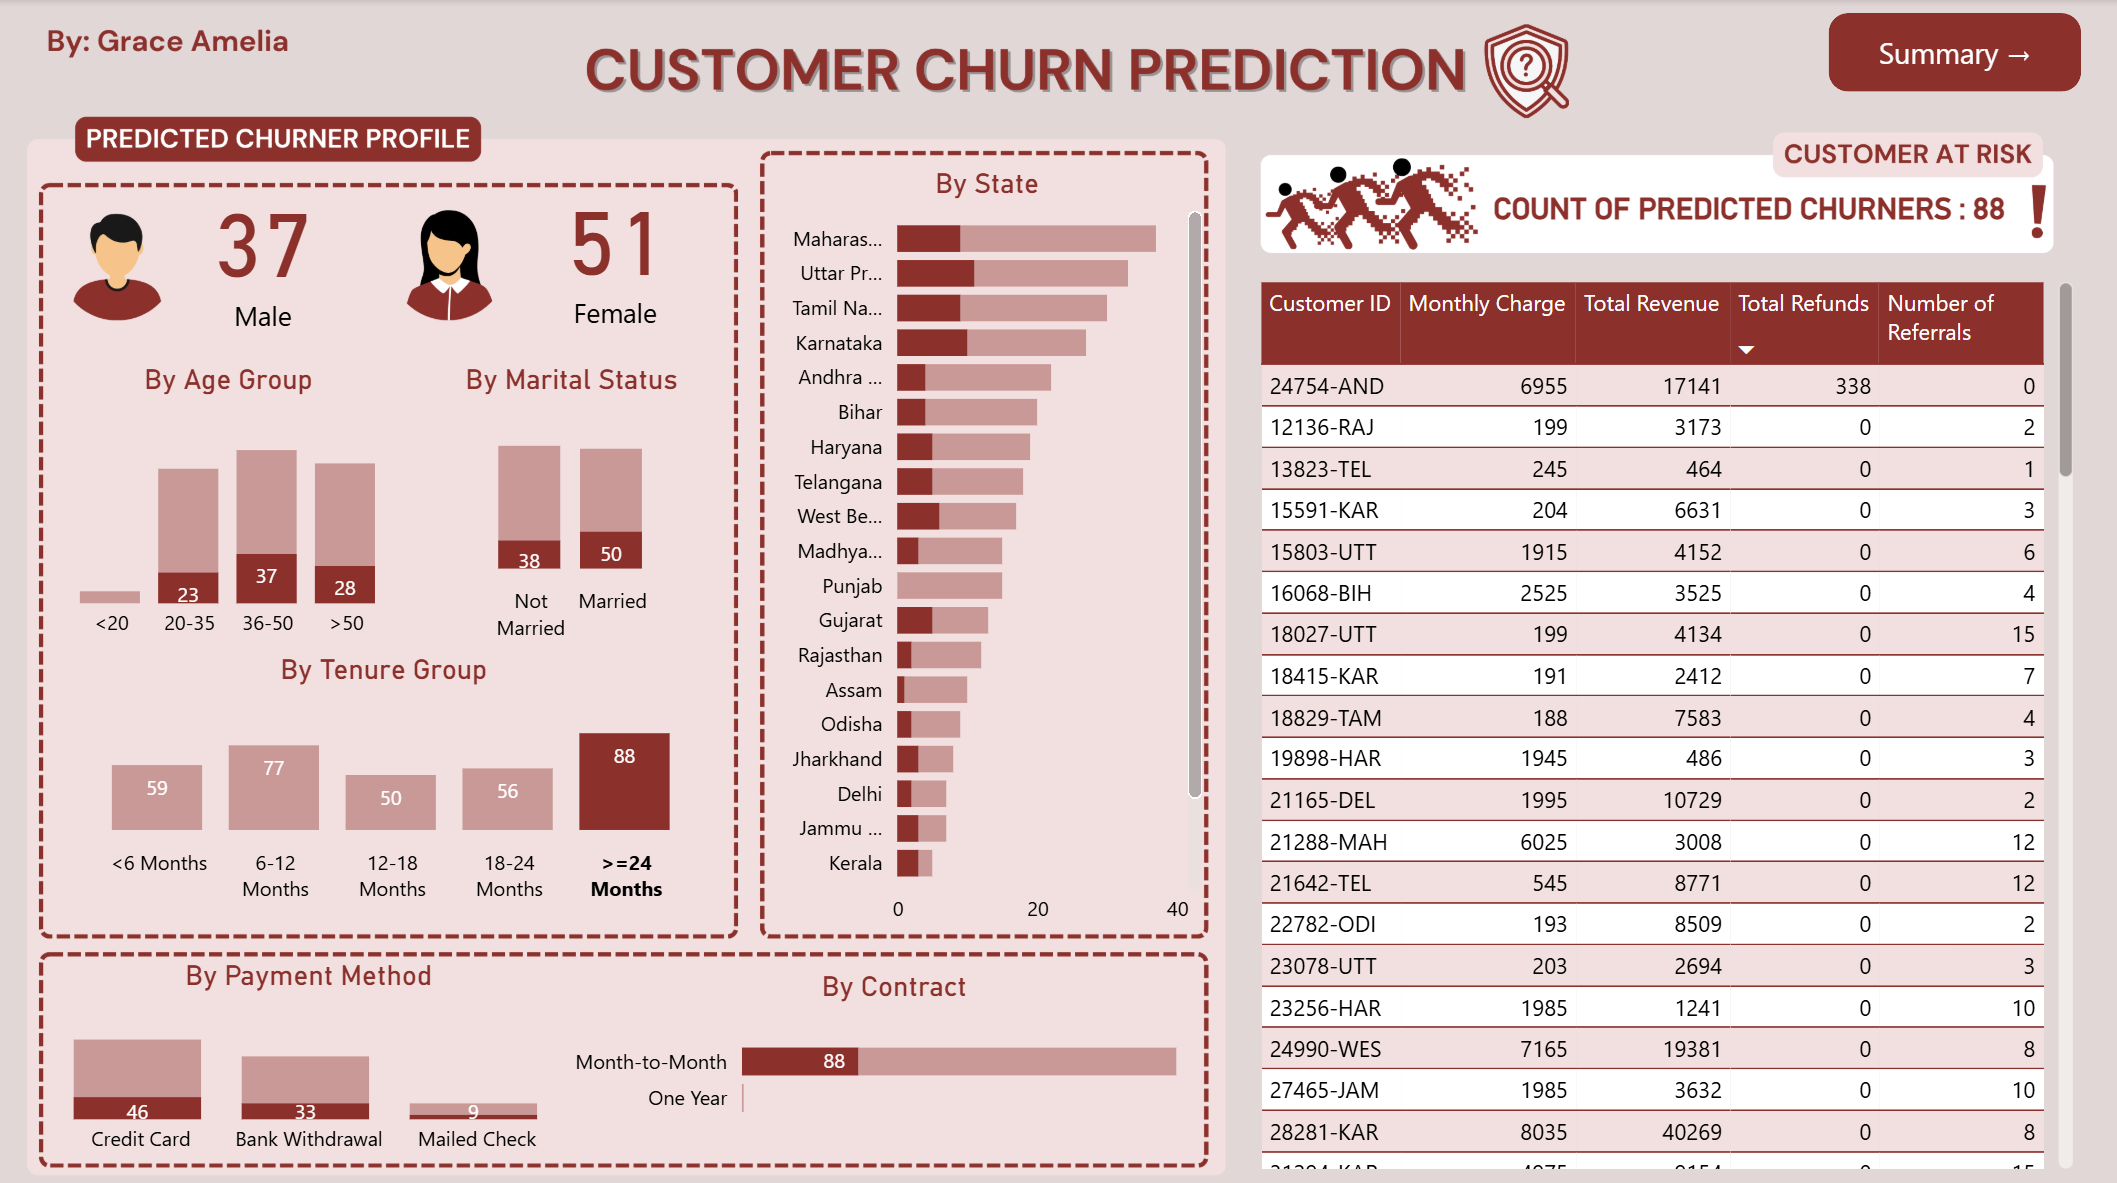

What the dashboard file says about the page in this screenshot:
{"tool":"powerbi","page":{"name":"Churn_Prediction","canvas":[1280,720],"ordinal":2},"visuals":[{"type":"tableEx","fields":{"Values":["Churned_Only_Prediction.Customer_ID","Churned_Only_Prediction.Monthly_Charge","Churned_Only_Prediction.Total_Revenue","Churned_Only_Prediction.Total_Refunds","Churned_Only_Prediction.Number_of_Referrals"]},"box":[756.2,166.2,501.2,545],"z":0},{"type":"card","fields":{"Values":["Table_Measures.Title_Predicted_Churners"]},"box":[888.8,101.2,335,50],"z":1000},{"type":"card","fields":{"Values":["Table_Measures.Count_Predicted_Churner"]},"box":[303.8,100,136.2,101.2],"z":2000},{"type":"card","fields":{"Values":["Table_Measures.Count_Predicted_Churner"]},"box":[97.5,98.8,125,106.2],"z":3000},{"type":"clusteredColumnChart","title":"By Age Group","fields":{"Category":["Age.Age_Group"],"Y":["CountNonNull(Churned_Only_Prediction.Customer_ID)"]},"box":[25,220,227.5,175],"z":4000},{"type":"clusteredColumnChart","title":"By Marital Status","fields":{"Y":["CountNonNull(Churned_Only_Prediction.Customer_ID)"],"Category":["Churned_Only_Prediction.Marital_Status"]},"box":[252.5,220,187.5,175],"z":5000},{"type":"clusteredColumnChart","title":"By Tenure Group","fields":{"Y":["CountNonNull(Churned_Only_Prediction.Customer_ID)"],"Category":["Tenure.Tenure_Group"]},"box":[25,395,415,157.5],"z":6000},{"type":"clusteredColumnChart","title":"By Payment Method","fields":{"Y":["CountNonNull(Churned_Only_Prediction.Customer_ID)"],"Category":["Churned_Only_Prediction.Payment_Method"]},"box":[0,580,375,126.2],"z":7000},{"type":"clusteredBarChart","title":"By Contract","fields":{"Category":["Churned_Only_Prediction.Contract"],"Y":["CountNonNull(Churned_Only_Prediction.Customer_ID)"]},"box":[336.2,586.2,410,111.2],"z":8000},{"type":"clusteredBarChart","title":"By State","fields":{"Y":["CountNonNull(Churned_Only_Prediction.Customer_ID)"],"Category":["Churned_Only_Prediction.State"]},"box":[462.5,101.2,268.8,466.2],"z":9000},{"type":"shape","box":[1105,8.8,152.5,47.5],"z":9002}]}

Visuals, with their boxes in screenshot pixels (x1, y1, x2, y2), scaled from the page's 1280x720 canvas onto the 2117x1183 screenshot:
tableEx - Churned_Only_Prediction.Customer_ID x Churned_Only_Prediction.Monthly_Charge: left=1251, top=273, right=2080, bottom=1169
card - Table_Measures.Title_Predicted_Churners: left=1470, top=166, right=2024, bottom=248
card - Table_Measures.Count_Predicted_Churner: left=502, top=164, right=728, bottom=331
card - Table_Measures.Count_Predicted_Churner: left=161, top=162, right=368, bottom=337
"By Age Group" clusteredColumnChart: left=41, top=361, right=418, bottom=649
"By Marital Status" clusteredColumnChart: left=418, top=361, right=728, bottom=649
"By Tenure Group" clusteredColumnChart: left=41, top=649, right=728, bottom=908
"By Payment Method" clusteredColumnChart: left=0, top=953, right=620, bottom=1160
"By Contract" clusteredBarChart: left=556, top=963, right=1234, bottom=1146
"By State" clusteredBarChart: left=765, top=166, right=1210, bottom=932
shape: left=1828, top=14, right=2080, bottom=93
